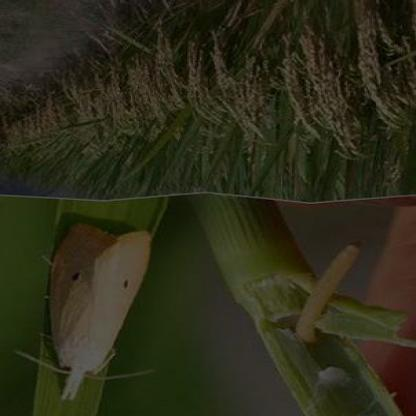stem-borer: (18, 219, 158, 402)
